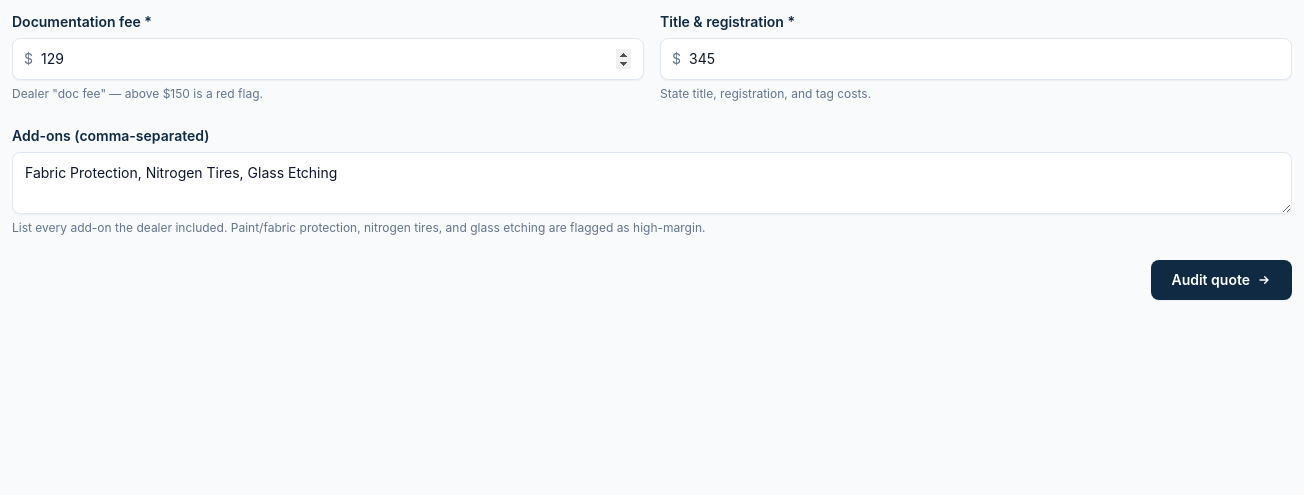
Scenario: FeeAuditor › flags high-margin add-ons
The width and height of the screenshot is (1304, 495).
Step 1. Type "99" into the number field labelled "Documentation fee *" → (328, 59), box [12,38,644,80]
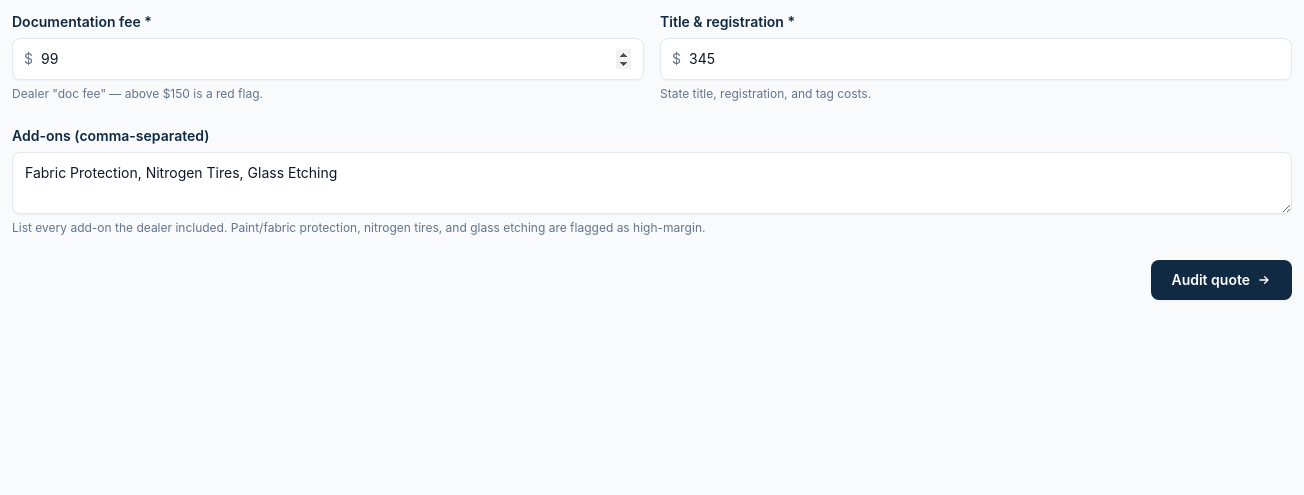
Step 2. Click the button "Audit quote" → (1222, 280), box [1152,260,1292,300]
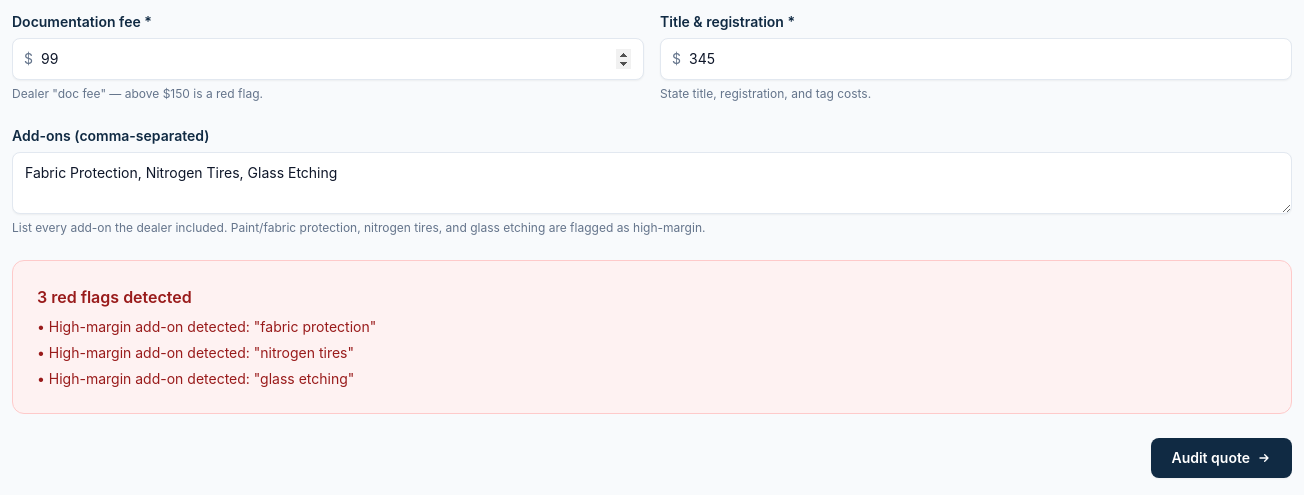
Expected: the text "3 red flags detected" is shown, [37,287,192,307]
Expected: the list item "• High-margin add-on detected: \"fabric protection\"" is shown, [37,318,376,335]
Expected: the list item "• High-margin add-on detected: \"nitrogen tires\"" is shown, [37,344,354,361]
